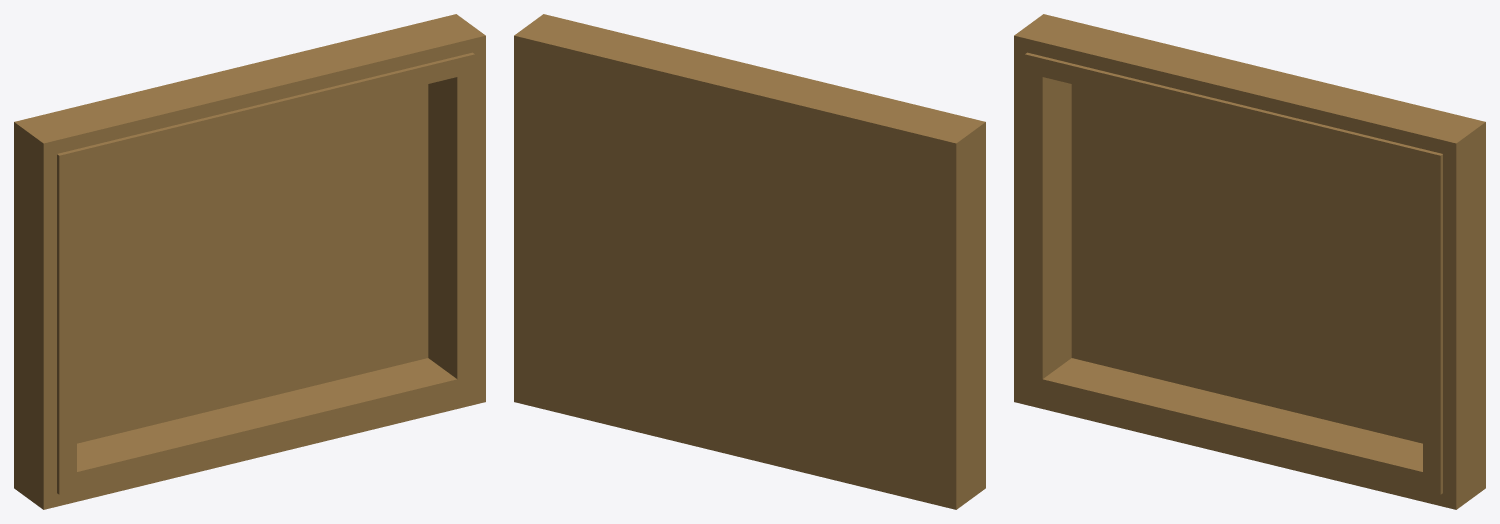
Rendered from cancase_tray.glb.
3 views of the same model, side by side, from view 1: azimuth 30°, elevation 25°; view 2: azimuth 150°, elevation 25°; view 3: azimuth 330°, elevation 25° (orthographic).
Parts seen in each view (by area): view 1: obj_36; view 2: obj_36; view 3: obj_36.
Part boxes in pixels (bbox=[...]): obj_36: bbox=[14, 14, 485, 509]; obj_36: bbox=[514, 14, 985, 509]; obj_36: bbox=[1014, 14, 1485, 509].
Size of the model in its own units: 24 by 19 by 3.
